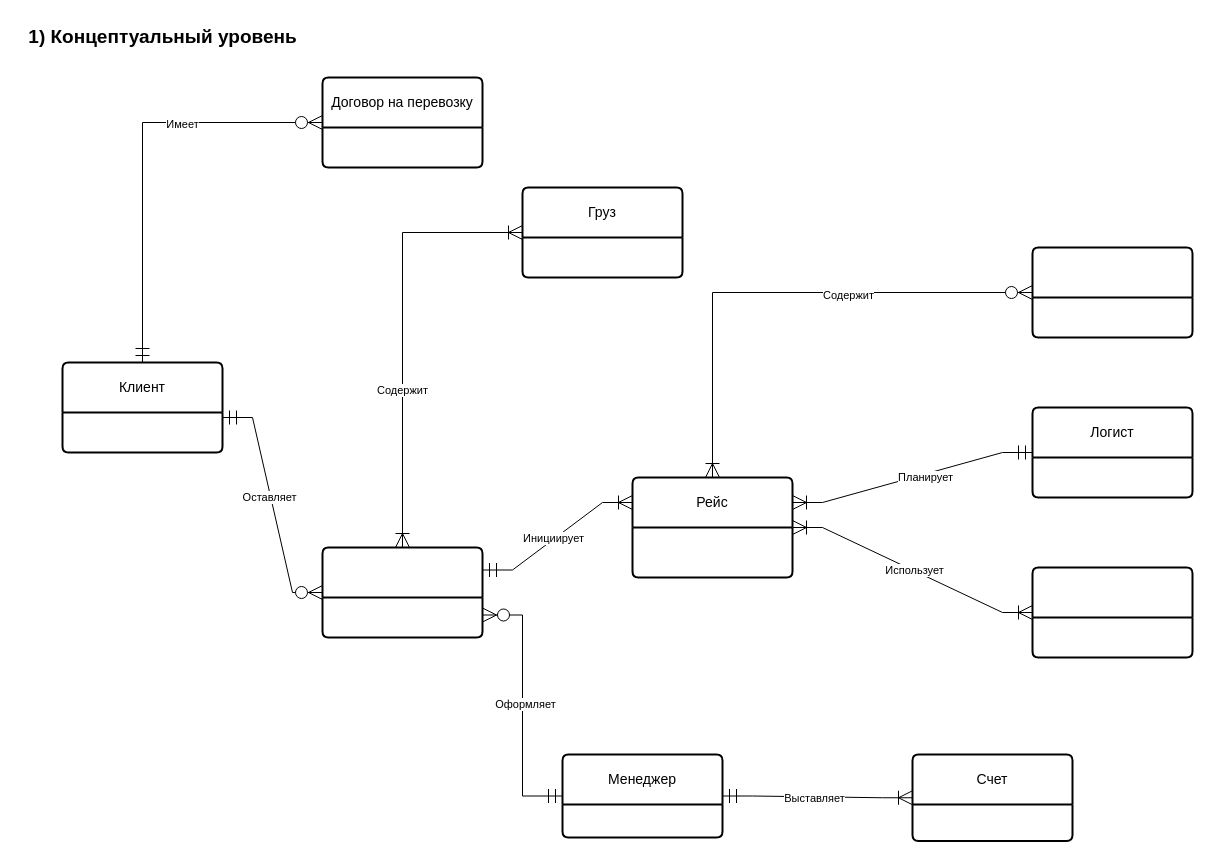
This 1210x859 diagram has some shape labels left out. Each missing label, with the box of its shape:
Документы: (1031, 246, 1193, 338)
Заявка: (321, 546, 483, 638)
Транспорт: (1031, 566, 1193, 658)
